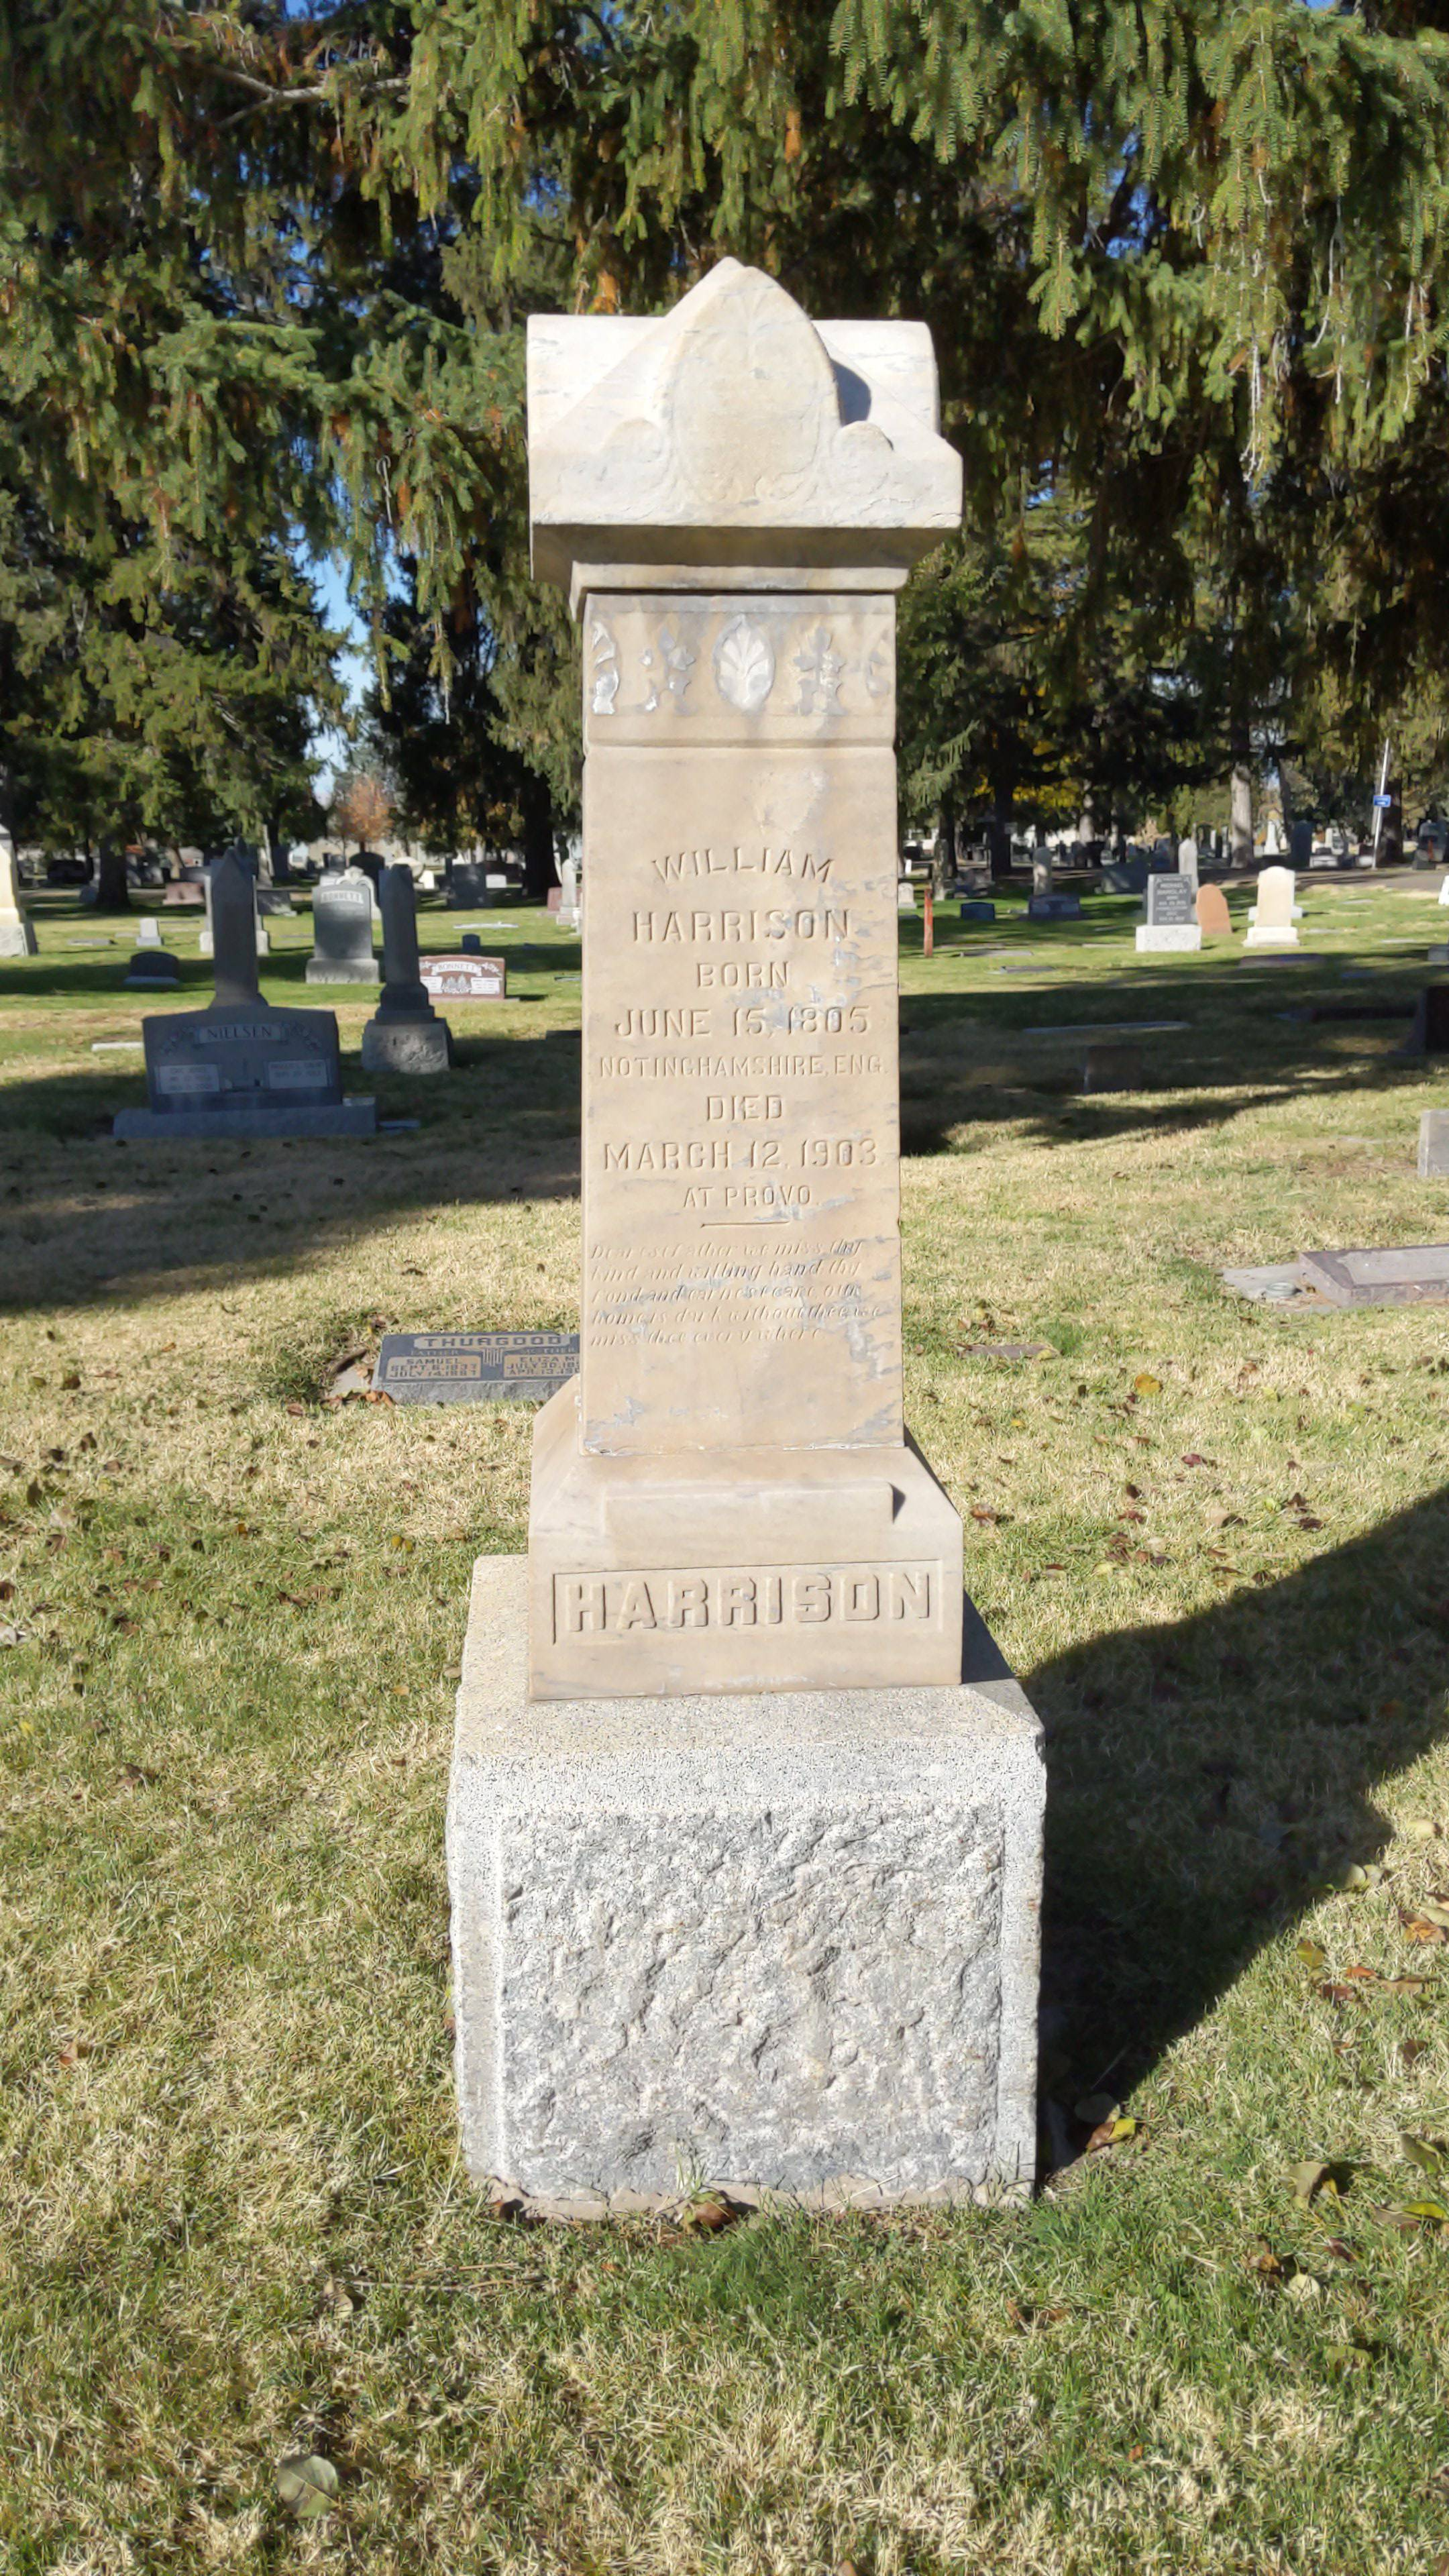obelisk: (518, 269, 975, 1698)
